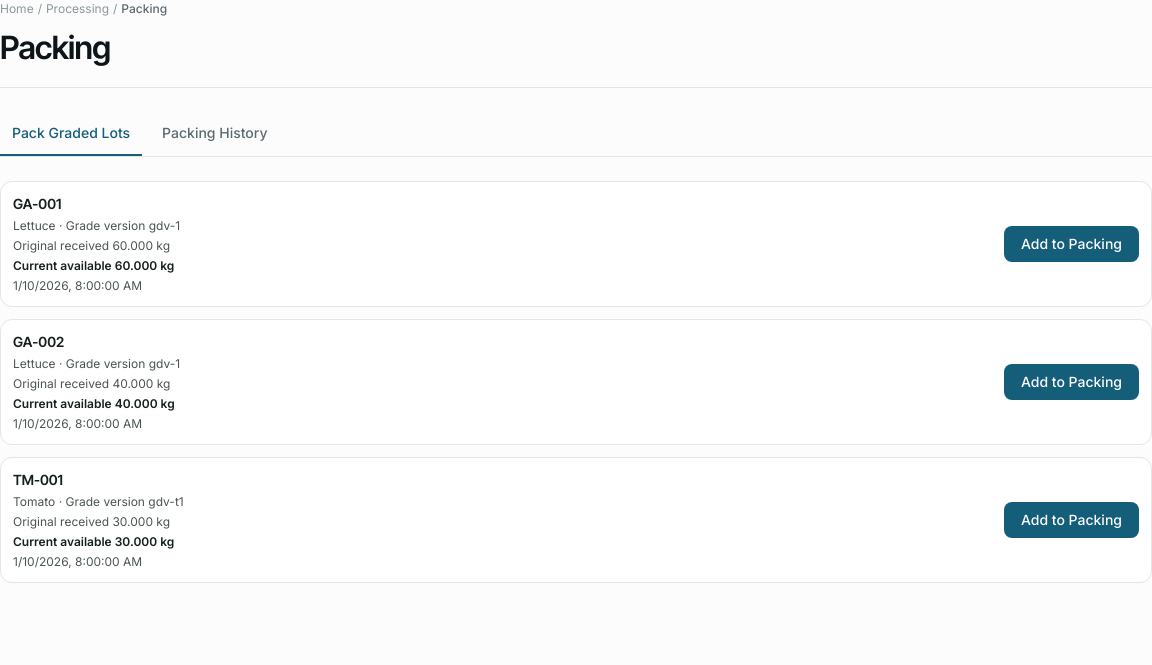
Test case: PackingPage reconciliation › 7. an unbalanced Packing reconciliation blocks progression to Review
Expected: the link "GA-001" is shown, x1=13 y1=195 x2=61 y2=212
Step 1. Click the 1st button "Add to Packing" → (1071, 244), box x1=1004 y1=226 x2=1139 y2=262
(page scrolled)
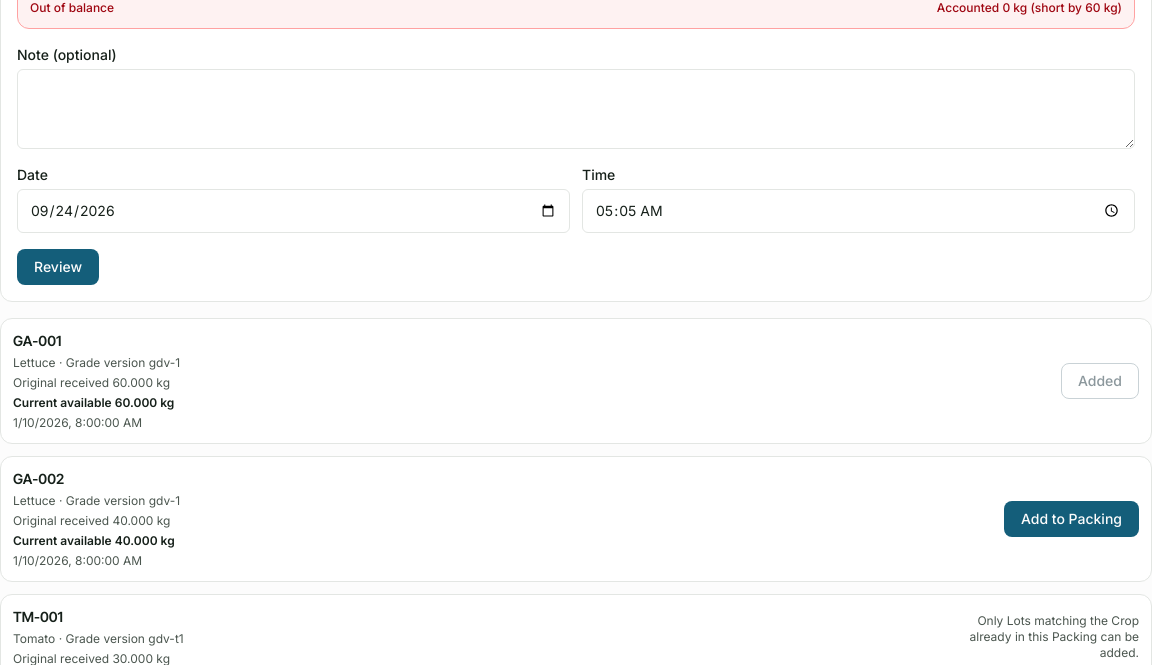
Expected: the link "GA-002" is shown, x1=13 y1=470 x2=64 y2=487
Step 2. Click the 1st button "Add to Packing" → (1071, 519), box x1=1004 y1=501 x2=1139 y2=537
(page scrolled)
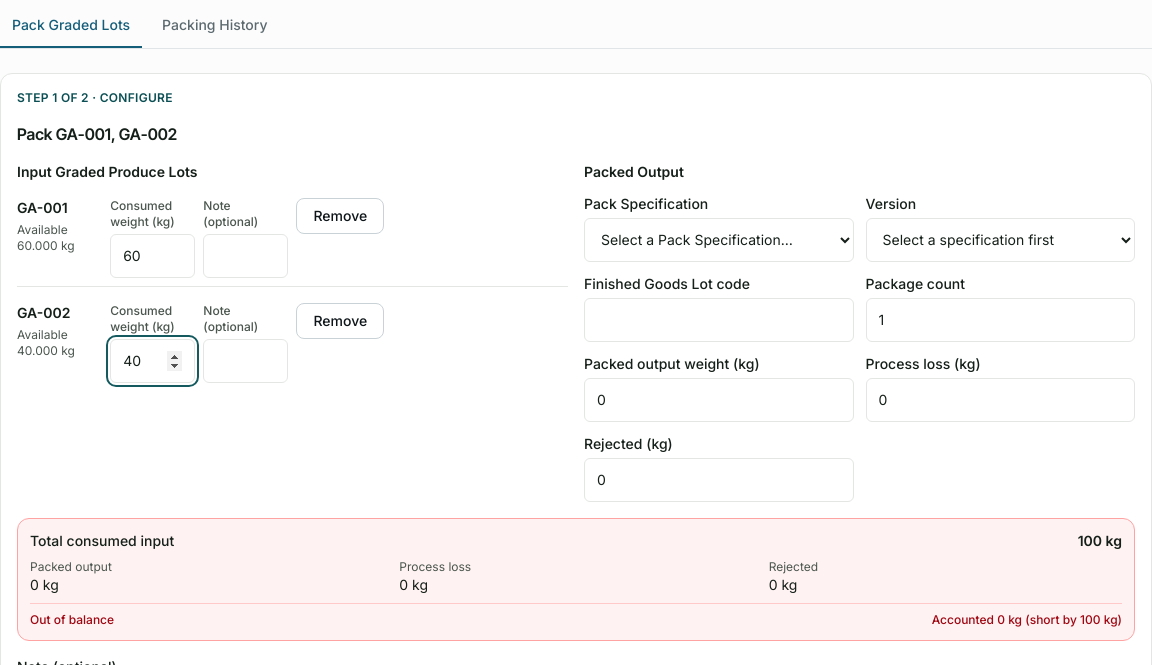
Step 3. Select "Retail Pack" in the dropdown labelled "Pack Specification" → (719, 240), box x1=584 y1=218 x2=854 y2=262
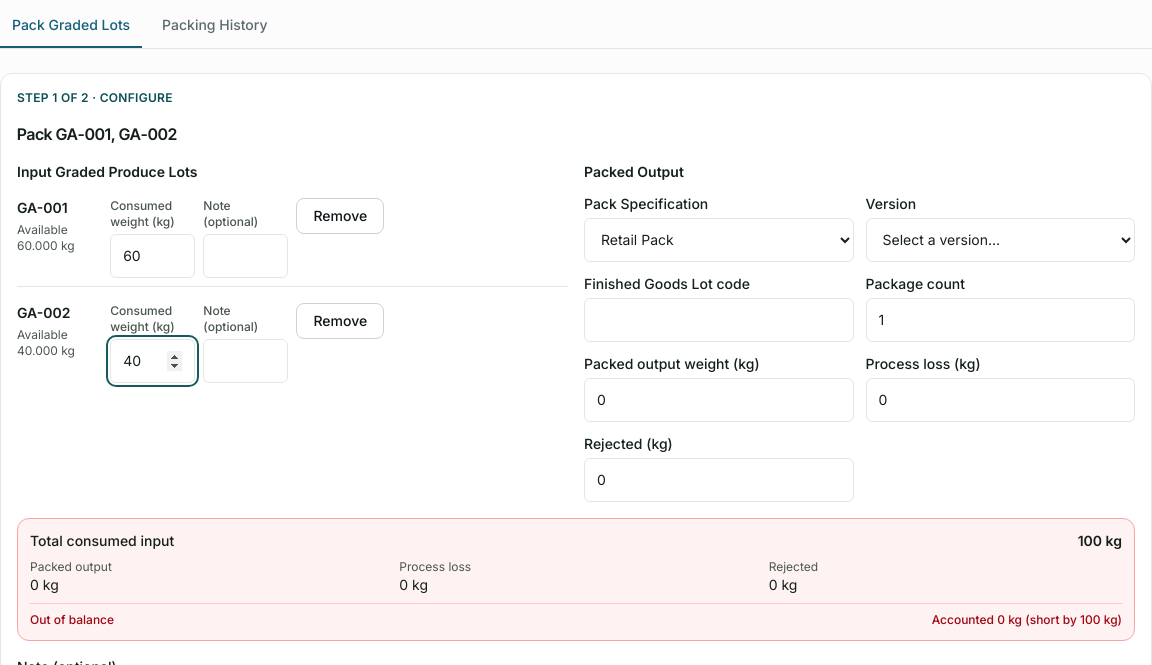
Step 4. Select "v2 — nominal 999.000 kg" in the dropdown labelled "Version" → (1000, 240), box x1=866 y1=218 x2=1135 y2=262
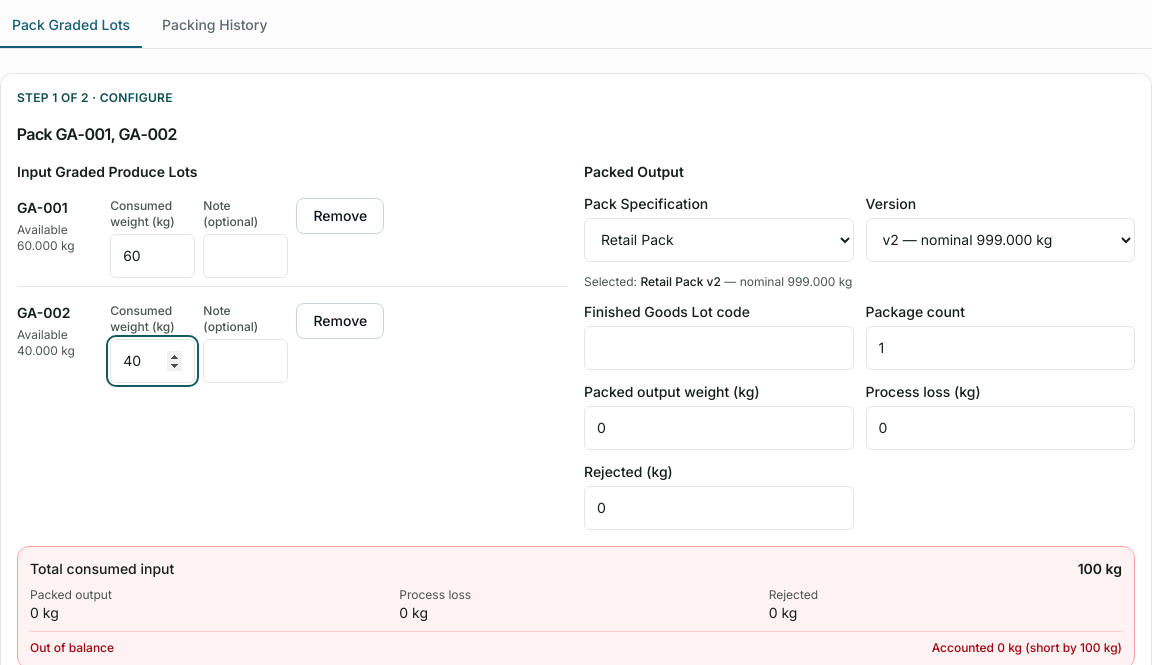
Now the 2nd number field labelled "Consumed weight (kg)" holds "40", box x1=110 y1=339 x2=195 y2=383
Step 5. Type "FG-001" into the field labelled "Finished Goods Lot code" → (719, 348), box x1=584 y1=326 x2=854 y2=370
Step 6. Replace the text in the number field labelled "Package count" with "10" → (1000, 348), box x1=866 y1=326 x2=1135 y2=370
Step 7. Replace the text in the number field labelled "Packed output weight (kg)" with "50" → (719, 428), box x1=584 y1=406 x2=854 y2=450
(page scrolled)
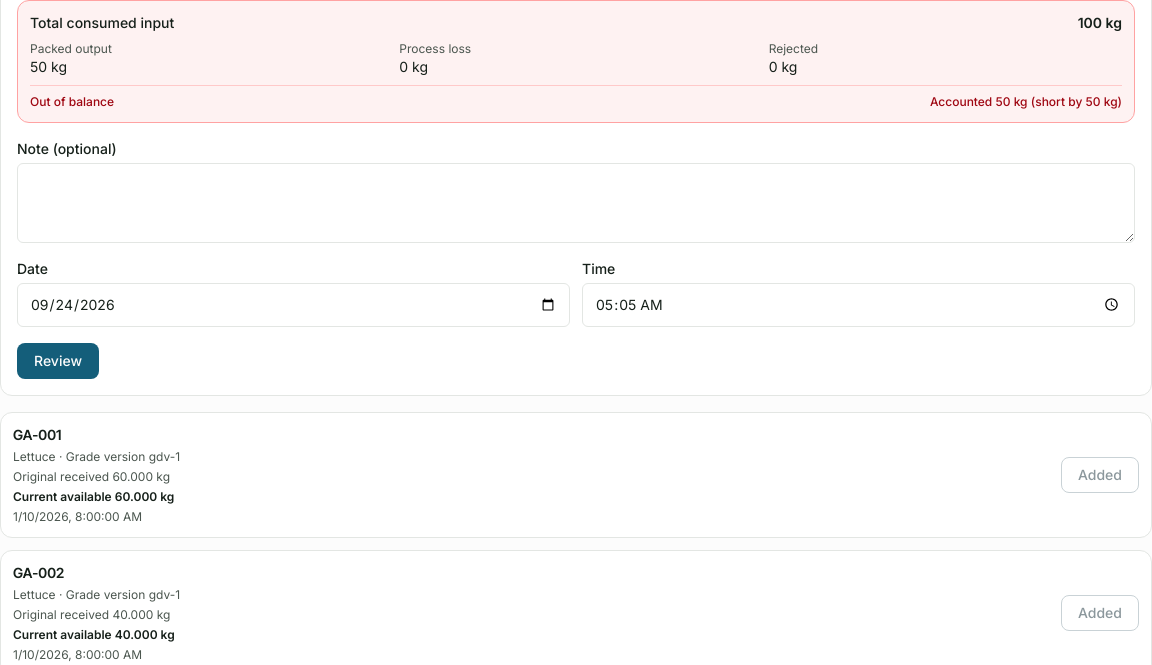
Now the text "Out of balance" is shown, box x1=30 y1=94 x2=114 y2=110
Step 8. Click the button "Review" → (58, 361), box x1=17 y1=343 x2=99 y2=379
(page scrolled)
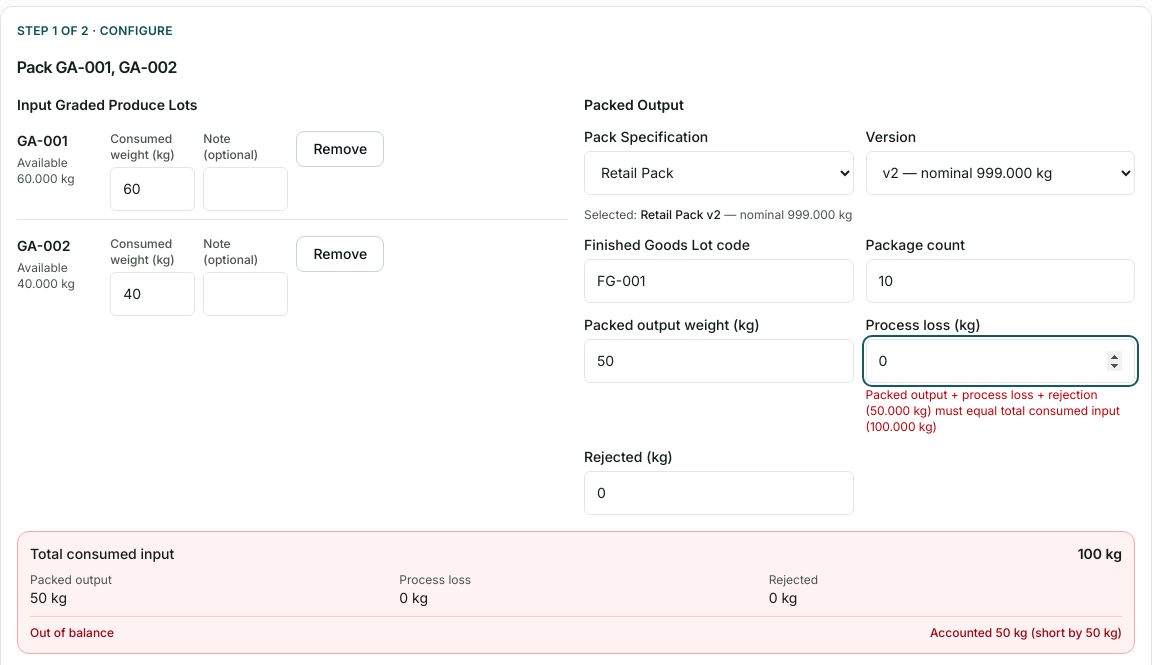
Now the text "must equal total consumed input (100.000 kg)" is shown, box x1=866 y1=387 x2=1120 y2=434
